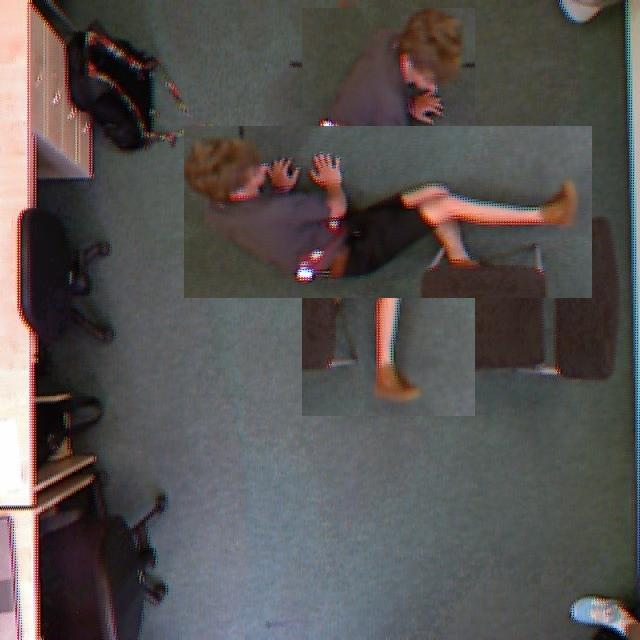Fall: (217, 102, 623, 310)
